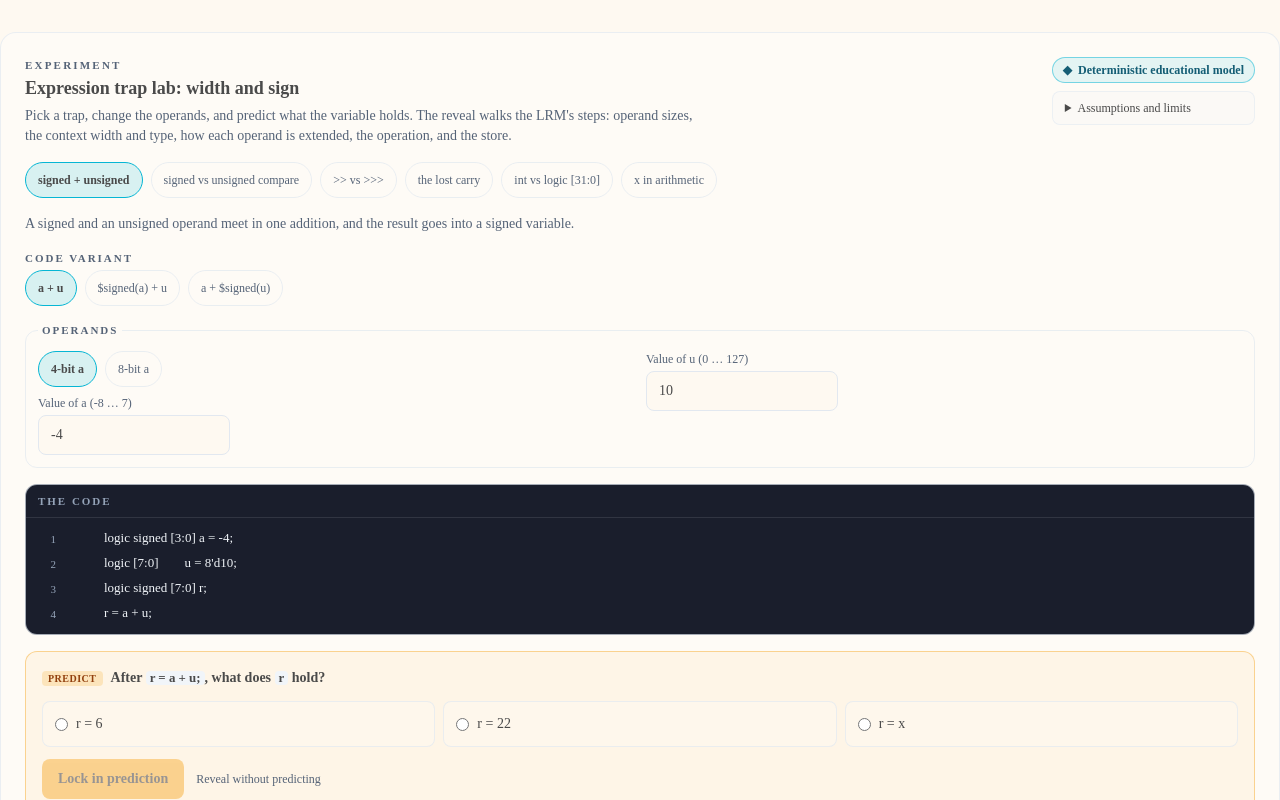
Scenario: SignednessVisualizer (expression trap lab) › switches scenarios with the keyboard and re-asks for a prediction
The image size is (1280, 800).
Step 1. Click the button "Reveal without predicting" → (258, 779), box x1=196 y1=771 x2=321 y2=787
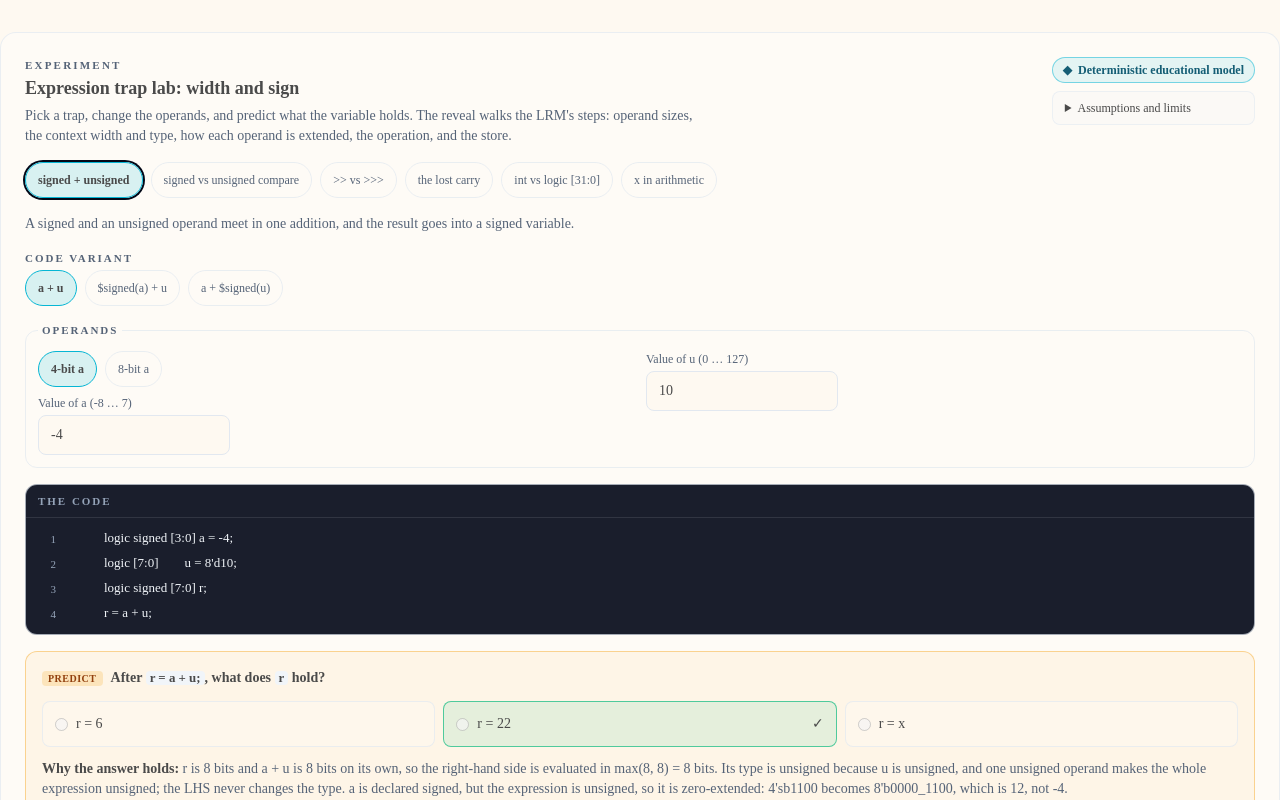
Step 2. Press ArrowRight in the radio button labelled "signed + unsigned", box x1=25 y1=162 x2=142 y2=198
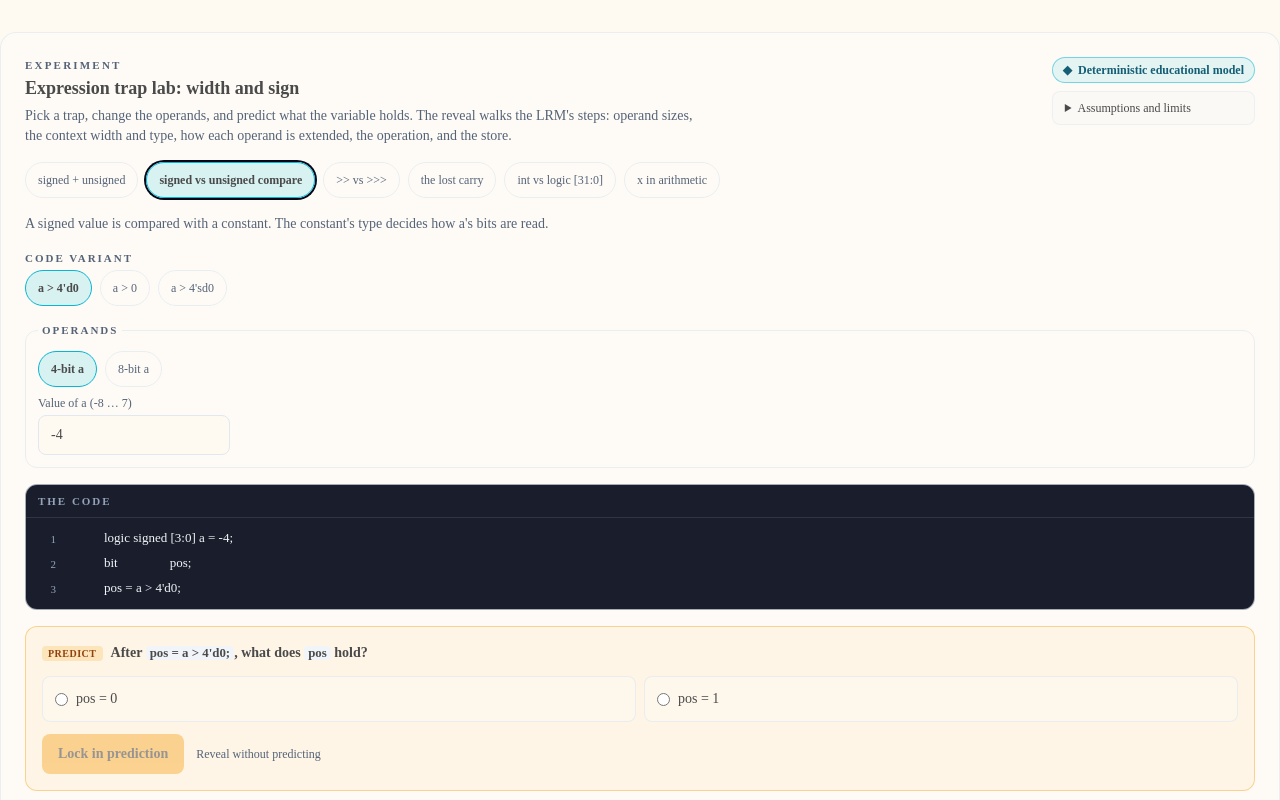
Expected: the radio button labelled "signed vs unsigned compare" is shown, x1=146 y1=162 x2=315 y2=198
Expected: the text "pos = a > 4'd0;" below "bit pos;" is shown, x1=104 y1=580 x2=181 y2=595
